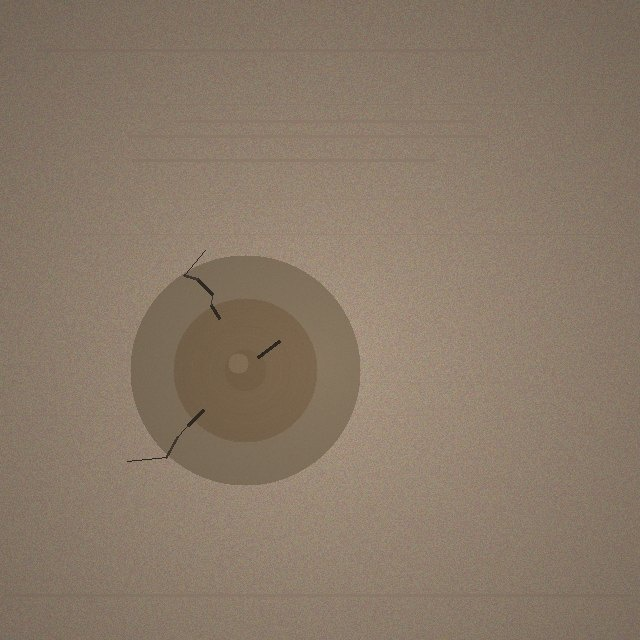crack: (130, 255, 360, 485)
